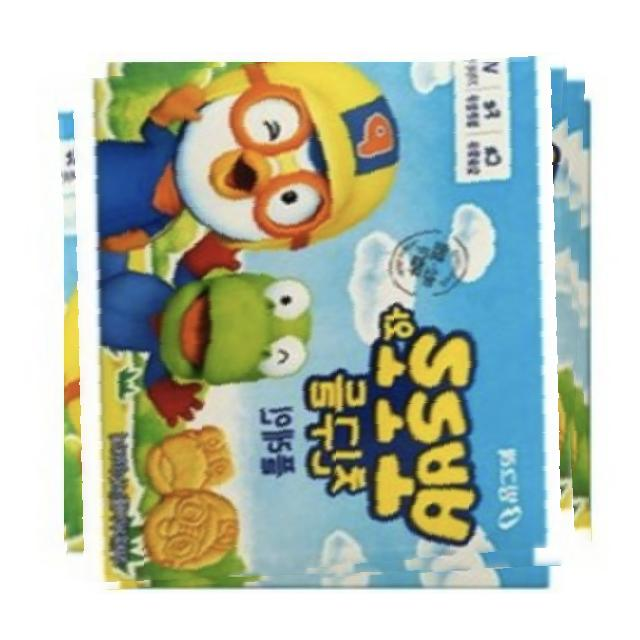biodegradable: (64, 62, 586, 584)
